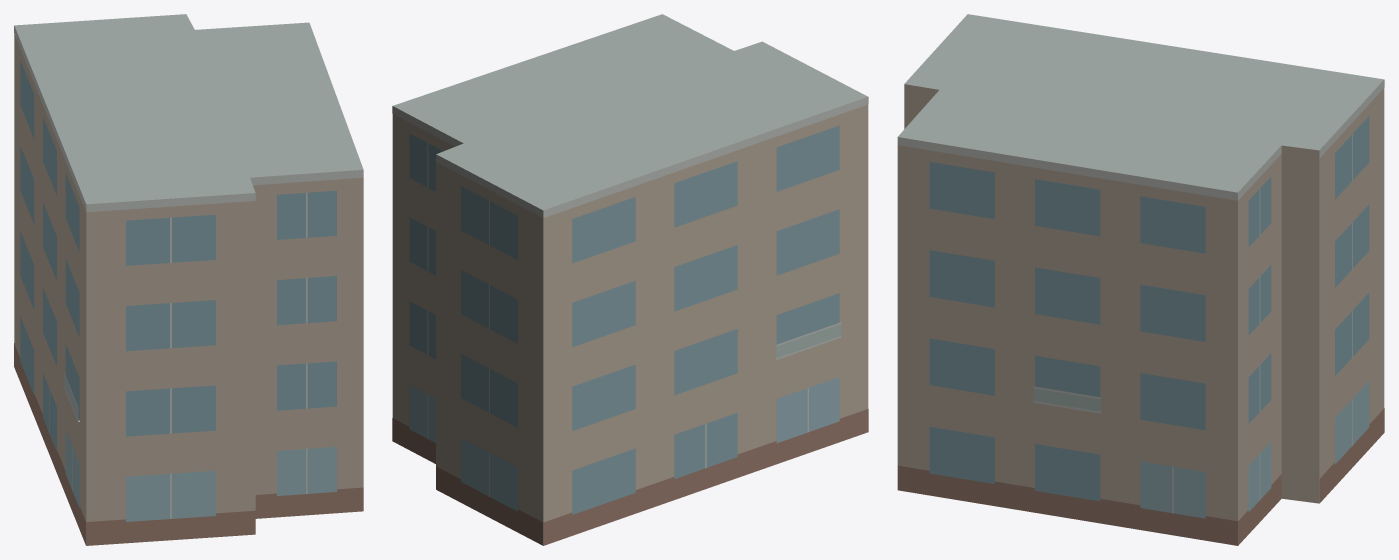
File: survey-upis-32932605.glb
3 views of the same model, side by side, from view 1: azimuth 30°, elevation 25°; view 2: azimuth 150°, elevation 25°; view 3: azimuth 270°, elevation 25° (orthographic). The views are drawn at different scales.
Parts seen in each view (by area): view 1: survey-upis-32932605.tmp; view 2: survey-upis-32932605.tmp; view 3: survey-upis-32932605.tmp.
Part boxes in pixels (box(x1,y1,x2,y2)): survey-upis-32932605.tmp: box(14, 14, 363, 545); survey-upis-32932605.tmp: box(392, 14, 868, 545); survey-upis-32932605.tmp: box(897, 14, 1384, 545).
Size of the model in its own units: 11.51 by 10.6 by 13.25.
